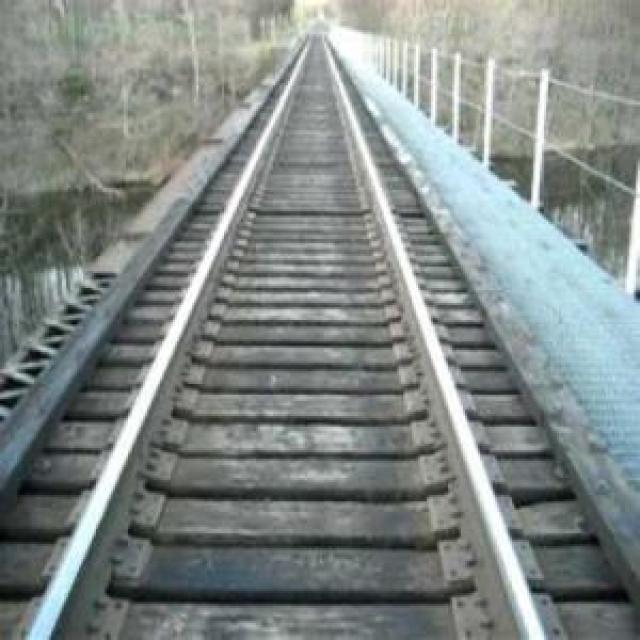rail: (10, 32, 594, 640)
